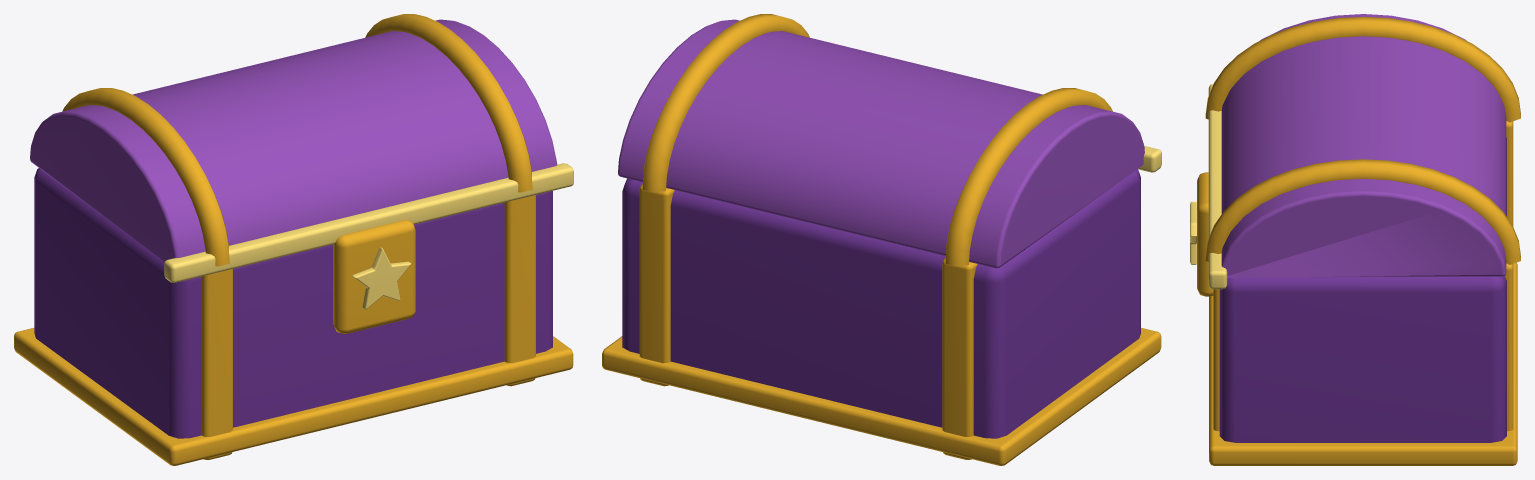
File: Reward_Chest.glb
3 renders of one model, left to right at view 1: azimuth 30°, elevation 25°; view 2: azimuth 150°, elevation 25°; view 3: azimuth 270°, elevation 25°, orthographic. The views are drawn at different scales.
Visible parts, largest first — view 1: Reward_Chest__ChestBody, Reward_Chest__ChestLid; view 2: Reward_Chest__ChestBody, Reward_Chest__ChestLid; view 3: Reward_Chest__ChestLid, Reward_Chest__ChestBody.
Boxes of the visible parts, left/top/right/bottom form: Reward_Chest__ChestBody: left=14, top=168, right=573, bottom=465; Reward_Chest__ChestLid: left=30, top=14, right=573, bottom=282; Reward_Chest__ChestBody: left=602, top=169, right=1161, bottom=465; Reward_Chest__ChestLid: left=618, top=14, right=1161, bottom=268; Reward_Chest__ChestLid: left=1205, top=14, right=1520, bottom=289; Reward_Chest__ChestBody: left=1190, top=121, right=1517, bottom=465.
Size of the model in its own units: 4.85 by 3.41 by 3.57.
